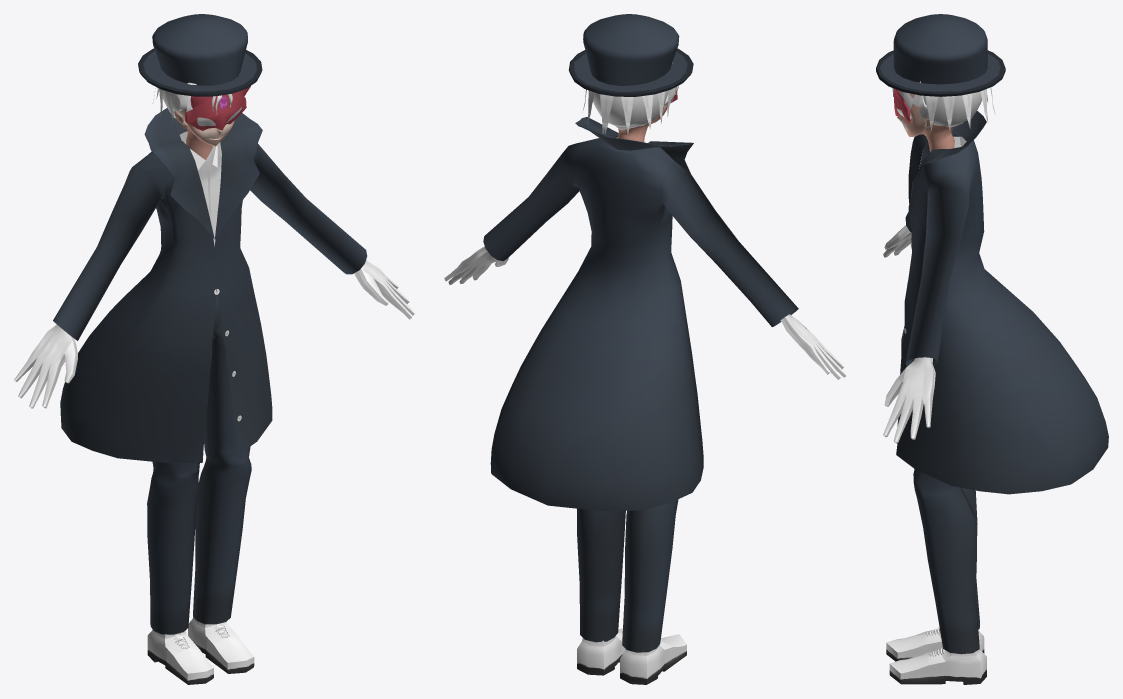
Rendered from phantomThief_idle.fbx.
The picture shows the model from 3 angles, left to right: view 1: azimuth 30°, elevation 25°; view 2: azimuth 150°, elevation 25°; view 3: azimuth 270°, elevation 25°; orthographic projection.
Parts seen in each view (by area): view 1: jacket, pants, hat, collar, shoes, gloves, mask, tshirt02, face; view 2: jacket, pants, hat, shoes, gloves, collar, hair02, hair01; view 3: jacket, pants, hat, shoes, gloves, collar, face, hair01, hair02, mask.
Part boxes in pixels (x1,y1,x2,y2): jacket: [53, 130, 367, 463]; pants: [147, 294, 251, 634]; hat: [138, 14, 262, 96]; collar: [144, 108, 262, 239]; shoes: [147, 617, 254, 684]; gloves: [14, 260, 415, 408]; mask: [185, 86, 250, 130]; tshirt02: [179, 131, 221, 246]; face: [182, 108, 234, 159]; jacket: [483, 135, 798, 510]; pants: [577, 499, 678, 652]; hat: [568, 14, 693, 96]; shoes: [577, 628, 686, 684]; gloves: [444, 246, 847, 379]; collar: [575, 117, 693, 173]; hair02: [583, 88, 672, 133]; hair01: [593, 90, 668, 129]; jacket: [896, 135, 1108, 494]; pants: [913, 469, 979, 654]; hat: [876, 14, 1005, 96]; shoes: [886, 627, 986, 684]; gloves: [883, 225, 935, 443]; collar: [908, 111, 986, 230]; face: [897, 93, 954, 151]; hair01: [919, 91, 981, 127]; hair02: [925, 87, 995, 130]; mask: [894, 88, 910, 123].
Size of the model in its own units: 108 by 169 by 55.29.
